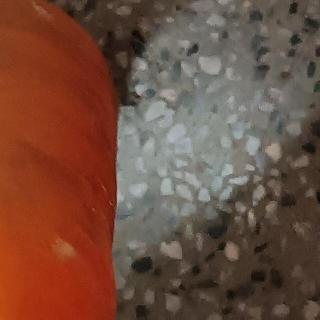carrot: (0, 0, 127, 320)
